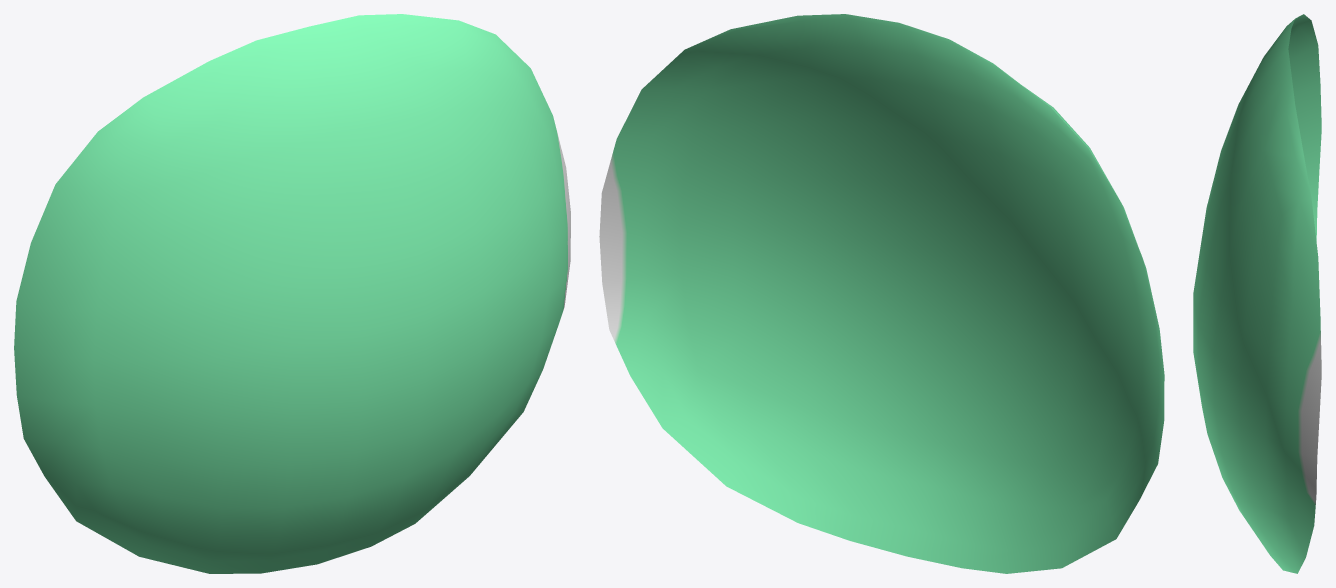
Rendered from Ping Pong Robot.fbx.
3 views of the same model, side by side, from view 1: azimuth 30°, elevation 25°; view 2: azimuth 150°, elevation 25°; view 3: azimuth 270°, elevation 25° (orthographic). The views are drawn at different scales.
Parts seen in each view (by area): view 1: Ping Pong Robot; view 2: Ping Pong Robot; view 3: Ping Pong Robot.
Boxes of the visible parts, box(x1,y1,x2,y2) form: Ping Pong Robot: box(14, 14, 570, 573); Ping Pong Robot: box(599, 14, 1164, 573); Ping Pong Robot: box(1193, 14, 1321, 573).
Bounding box in the file's own units: 47.37 × 43.25 × 10.37.
